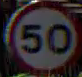Speed limit: (4, 2, 80, 72)
